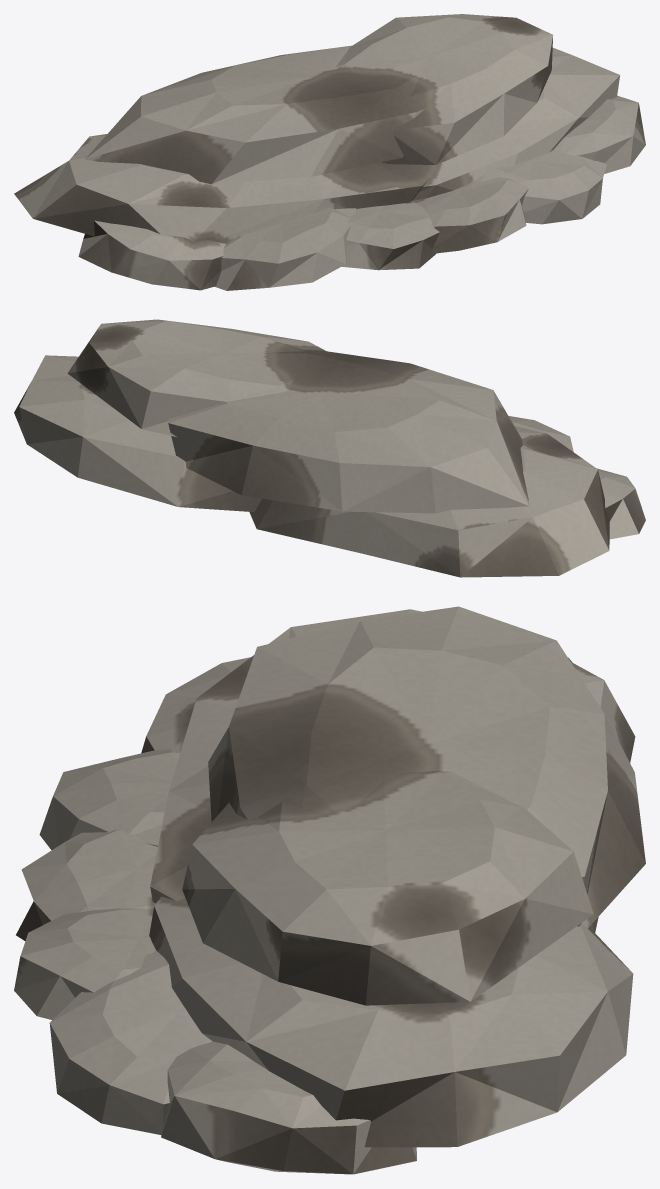
File: CommonStone_Deposit_B.glb
3 views of the same model, one above another, from view 1: azimuth 30°, elevation 25°; view 2: azimuth 150°, elevation 25°; view 3: azimuth 270°, elevation 25° (orthographic). The views are drawn at different scales.
Visible parts, largest first — view 1: CommonStone_Deposit_B_LOD0; view 2: CommonStone_Deposit_B_LOD0; view 3: CommonStone_Deposit_B_LOD0.
Boxes of the visible parts, x1,y1,x2,y2 form: CommonStone_Deposit_B_LOD0: (14, 14, 645, 290); CommonStone_Deposit_B_LOD0: (14, 319, 645, 577); CommonStone_Deposit_B_LOD0: (14, 606, 645, 1174).
Size of what is drawn, in the model's own units: 4.28 by 0.9214 by 2.26.
1 material, 1 textured.
